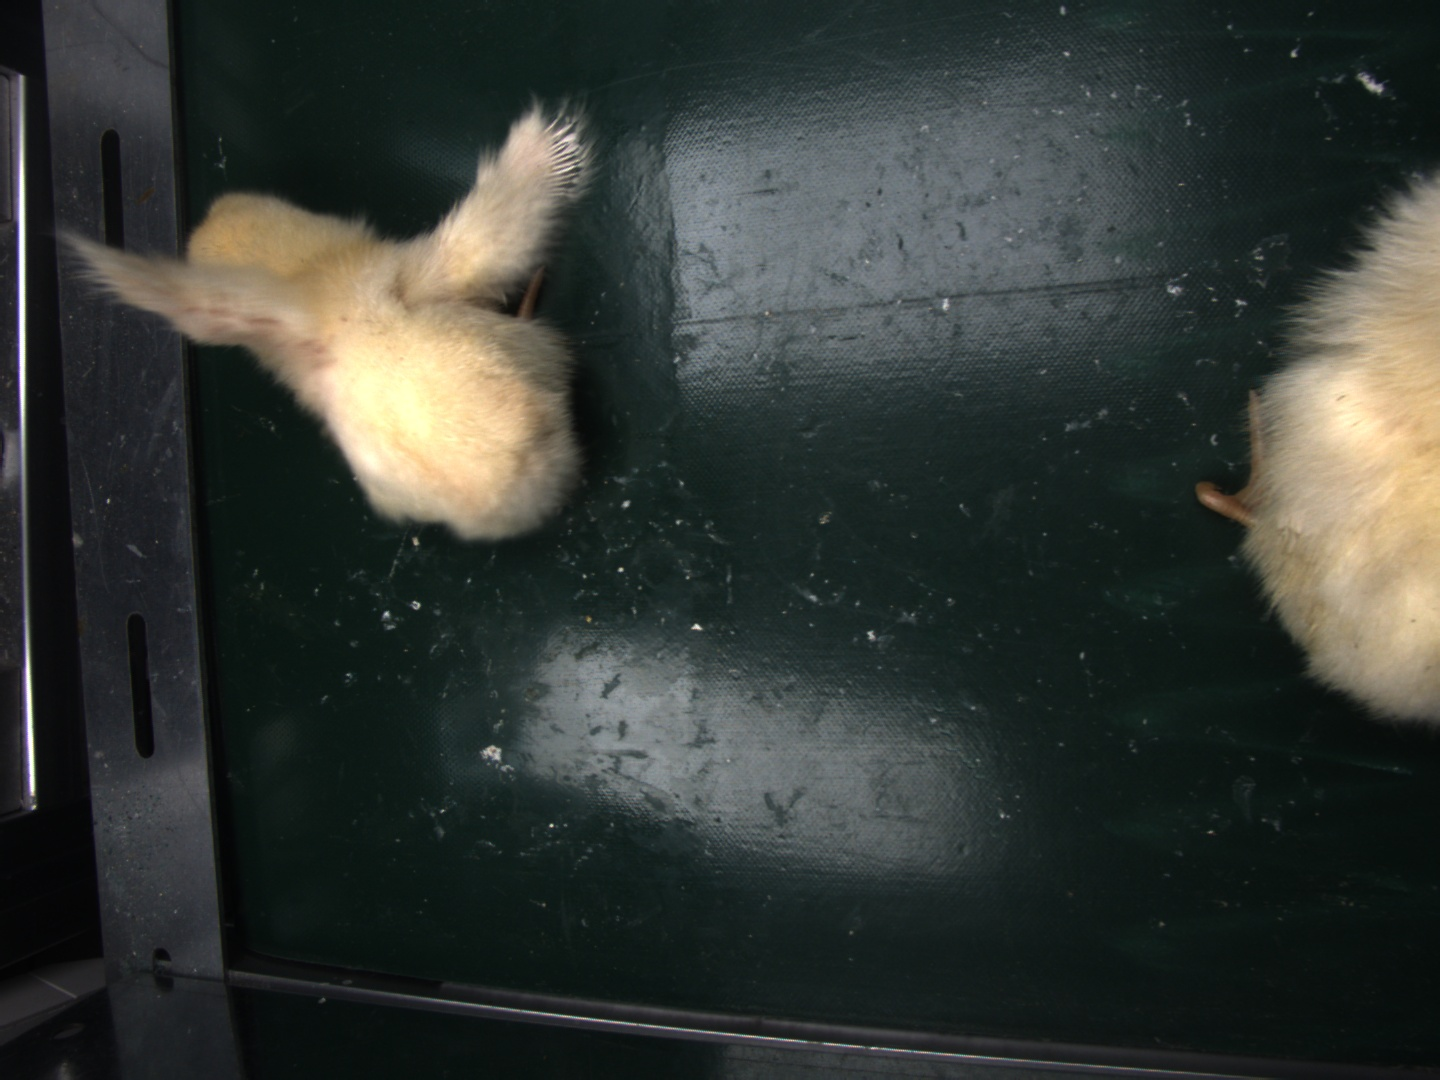male: (541, 124, 581, 197)
